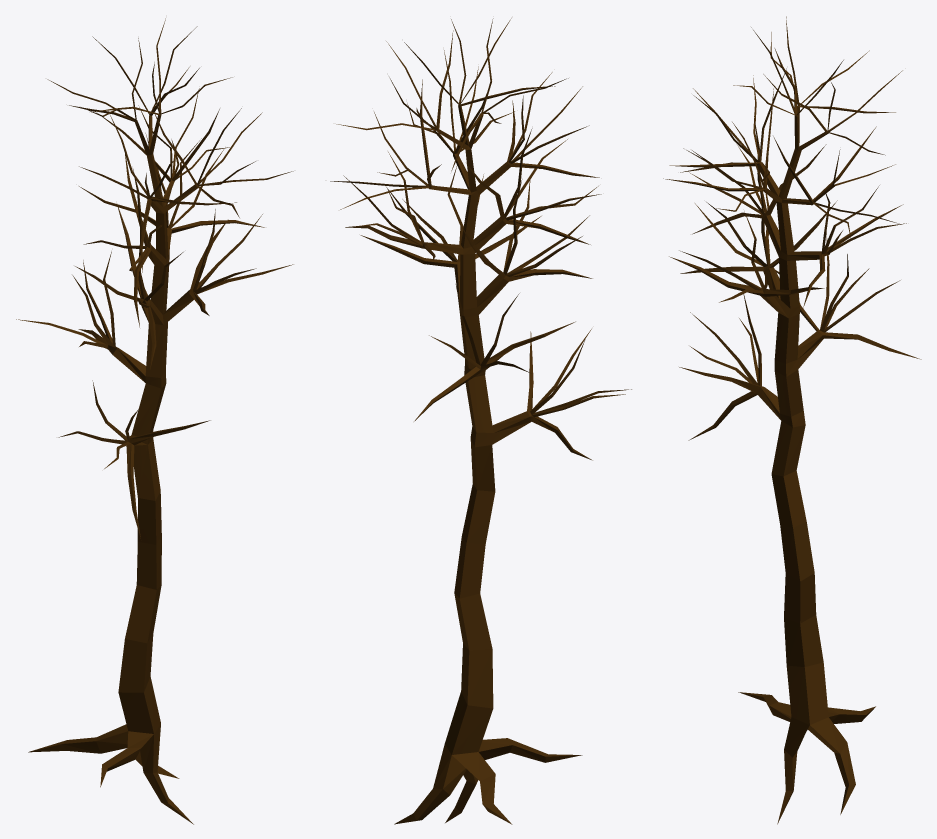
File: tree2.fbx
3 views of the same model, side by side, from view 1: azimuth 30°, elevation 25°; view 2: azimuth 150°, elevation 25°; view 3: azimuth 270°, elevation 25° (orthographic). The views are drawn at different scales.
Parts seen in each view (by area): view 1: TreeModel1295988; view 2: TreeModel1295988; view 3: TreeModel1295988.
Boxes of the visible parts, x1,y1,x2,y2 form: TreeModel1295988: (16,18,293,824); TreeModel1295988: (330,18,631,824); TreeModel1295988: (663,16,921,824).
Size of the model in its own units: 473 by 1482 by 445.
